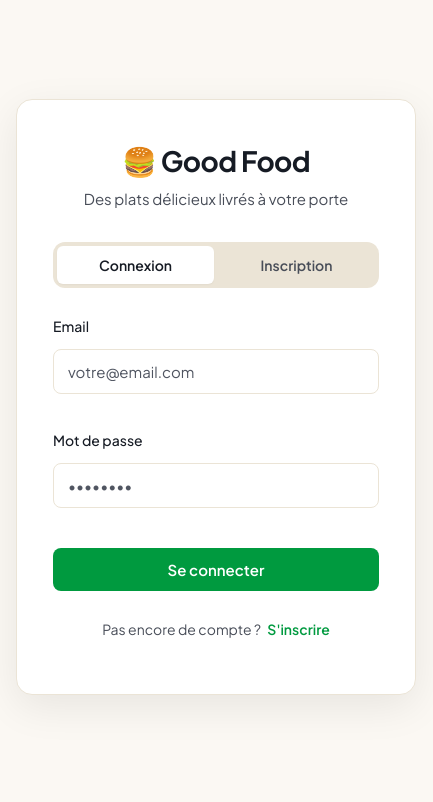
Scenario: Auth Component › handles registration
Click the button "Inscription": (296, 265) [218,246,375,284]
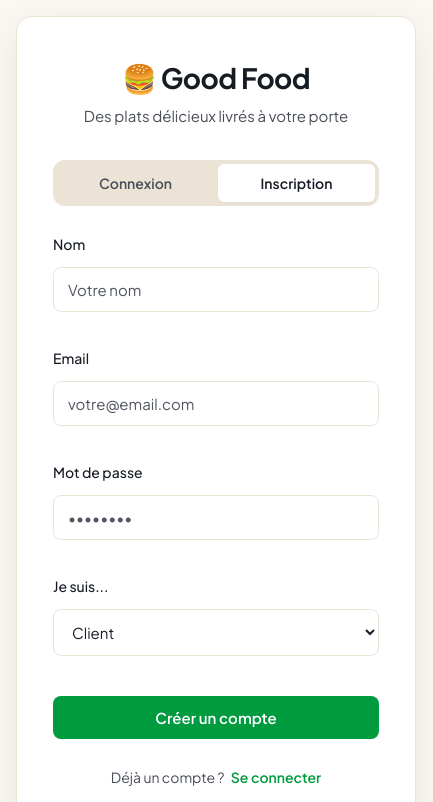
In the field with placeholder "Votre nom": (216, 289) [53,266,379,312], type "John Doe"
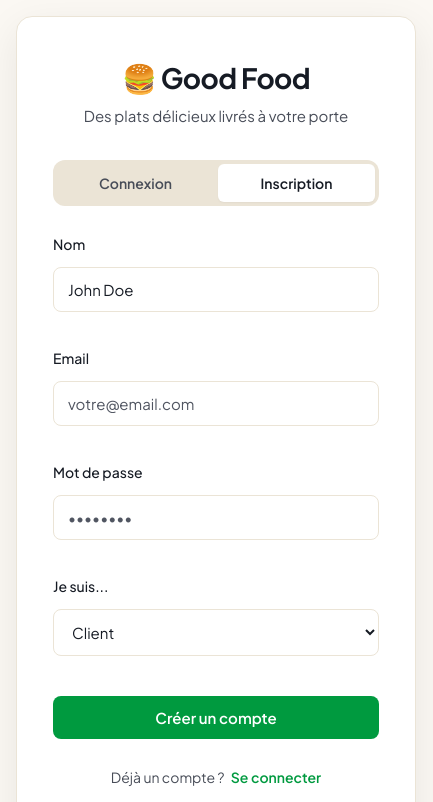
In the field with placeholder "votre@email.com": (216, 403) [53,380,379,426], type "john@example.com"
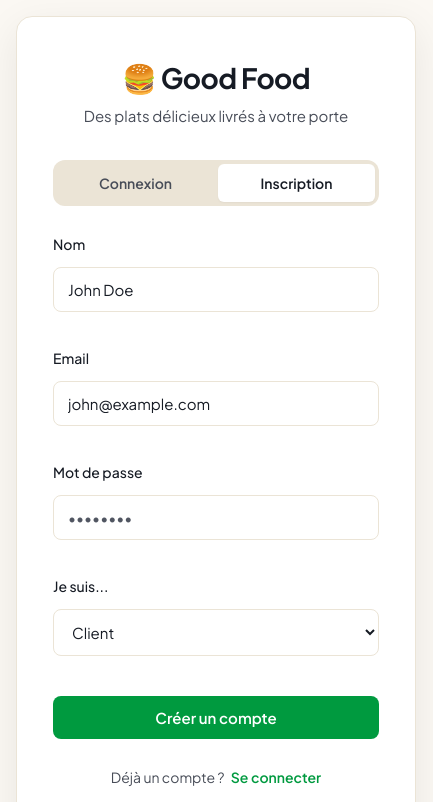
In the password field with placeholder "••••••••": (216, 517) [53,494,379,540], type "password123"
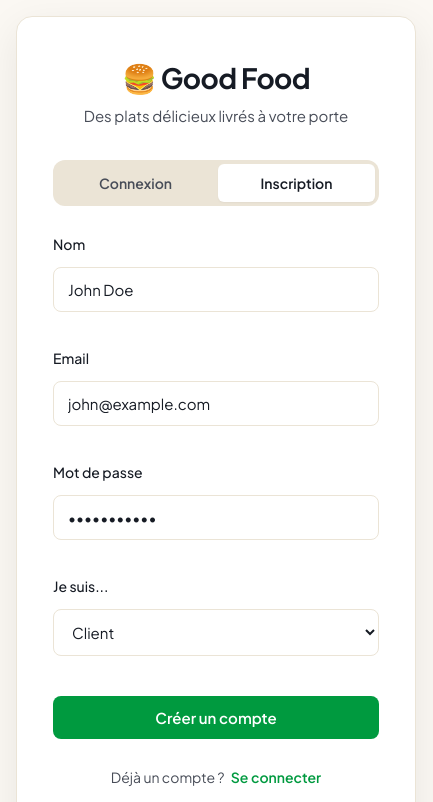
Click the button "Créer un compte": (216, 717) [53,696,379,738]
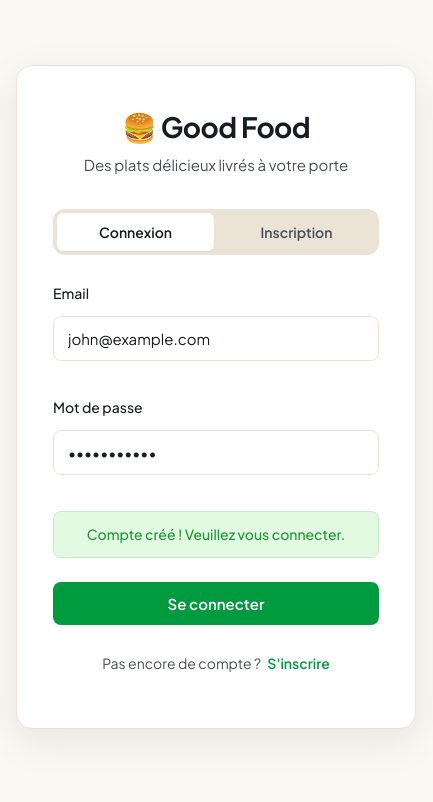
Now the text "Compte créé ! Veuillez vous connecter." is shown, box [53,511,379,558]
